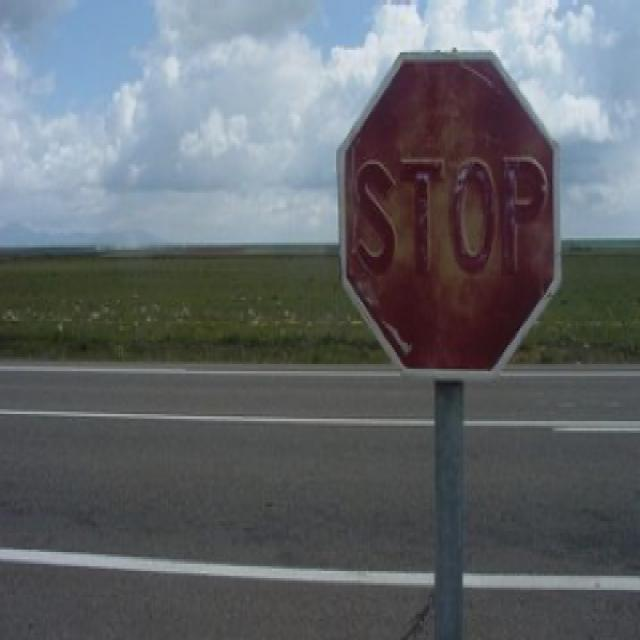stop: (334, 48, 563, 382)
